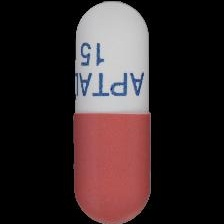42865-302: (0, 0, 224, 224)
